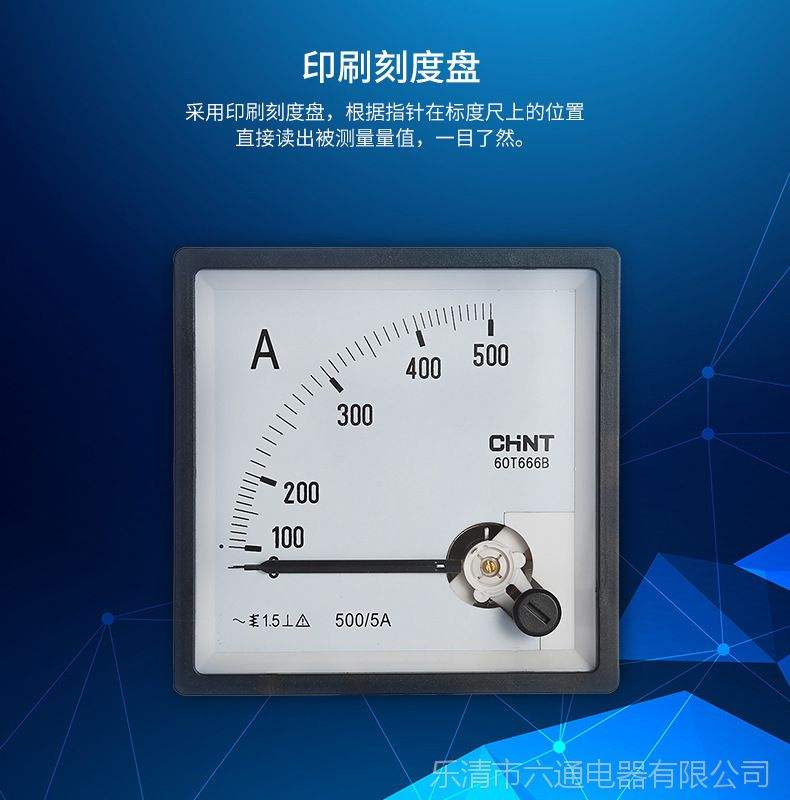pointer: (193, 263, 596, 674)
